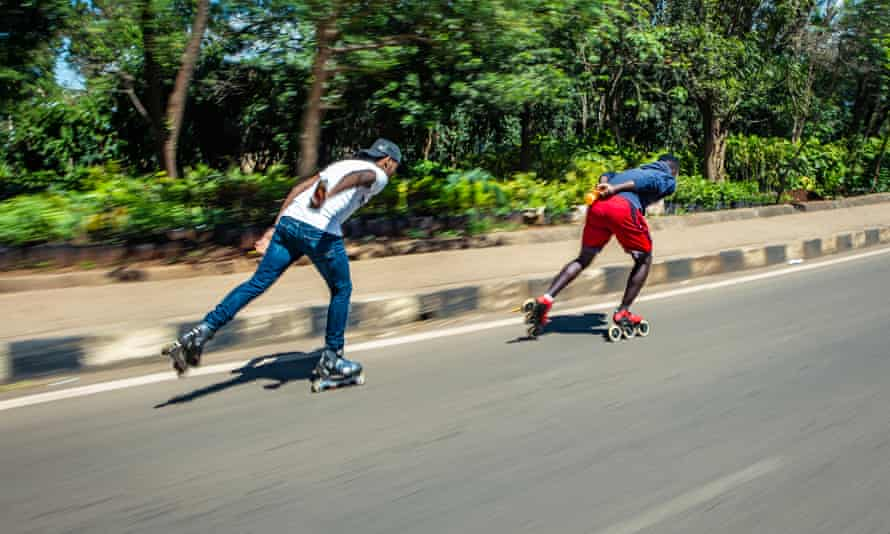roller_blade: (163, 319, 211, 377), (311, 347, 368, 389), (520, 290, 554, 338), (609, 306, 653, 339)
